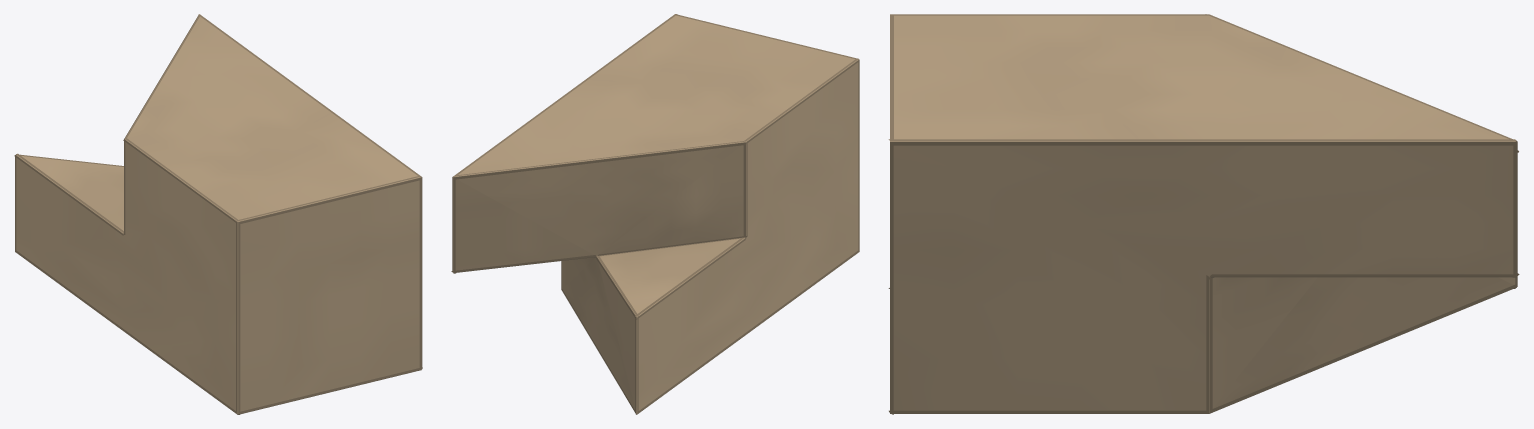
3 renders of one model, left to right at view 1: azimuth 30°, elevation 25°; view 2: azimuth 150°, elevation 25°; view 3: azimuth 270°, elevation 25°, orthographic. The views are drawn at different scales.
Parts seen in each view (by area): view 1: part-a; view 2: part-a; view 3: part-a.
Part boxes in pixels (x1,y1,x2,y2): part-a: (14,14,422,414); part-a: (451,14,859,414); part-a: (888,14,1519,414).
Bounding box in the file's own units: 0.1218 × 0.121 × 0.253.
